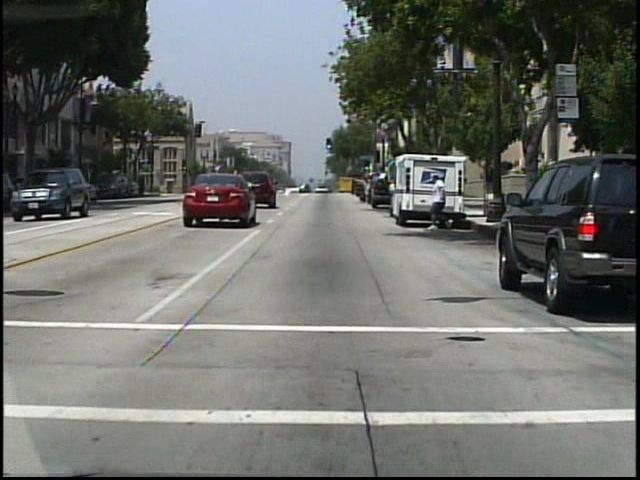person: (424, 172, 455, 233), (355, 173, 376, 209)
